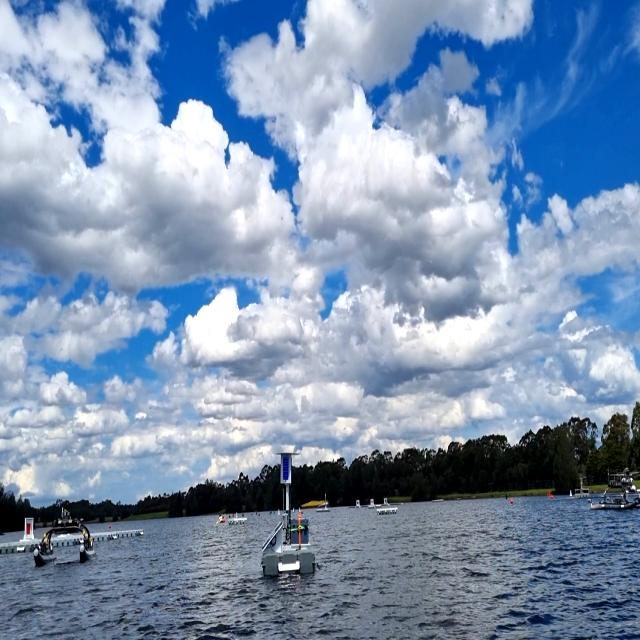led: (282, 455, 290, 482)
